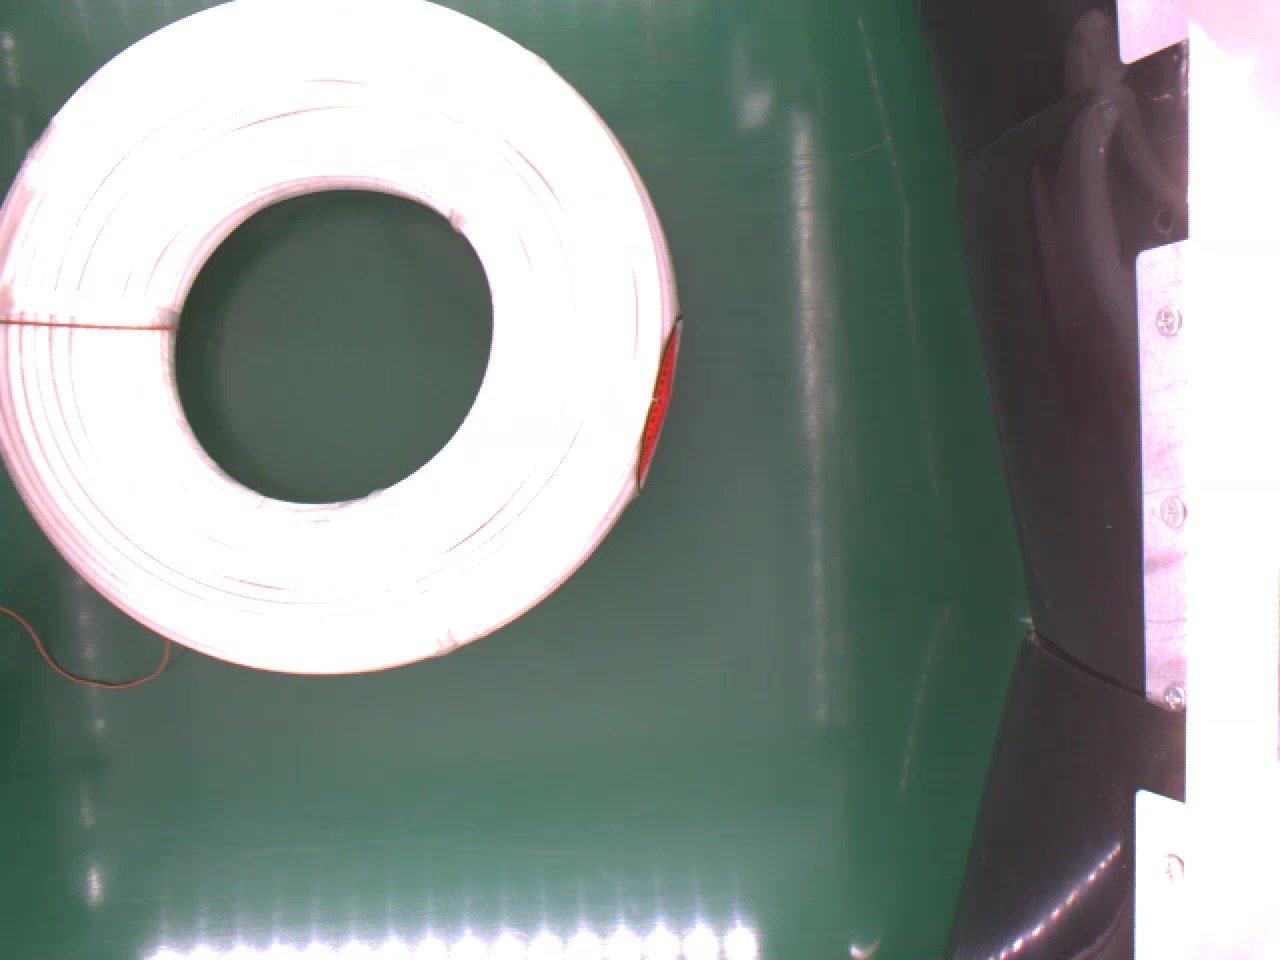white: (0, 0, 679, 676)
